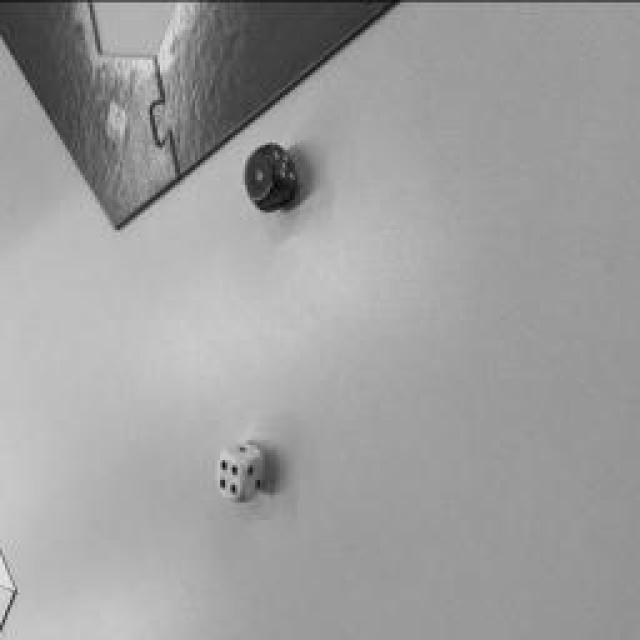dice_1: (244, 149, 274, 201)
dice_4: (216, 452, 242, 498)
